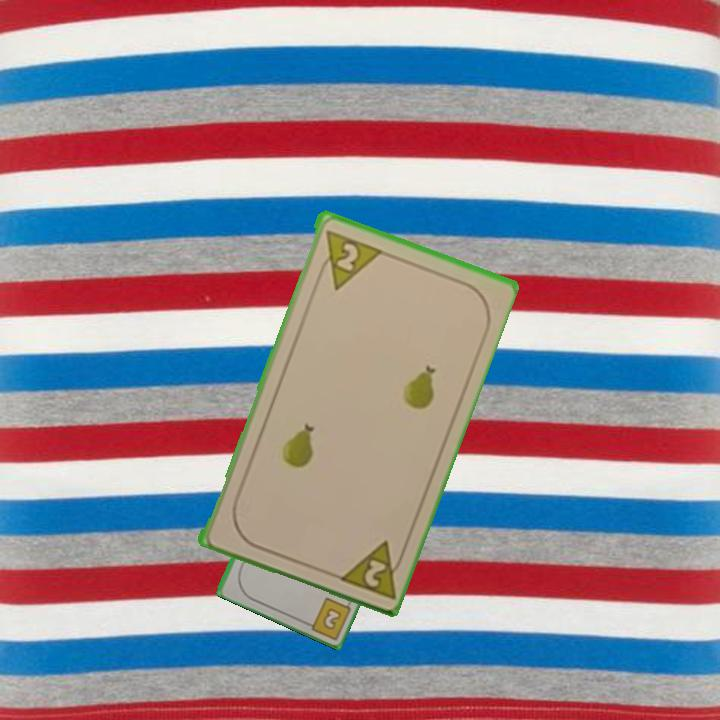2b: (299, 593, 354, 640)
2p: (332, 535, 409, 601), (314, 225, 382, 292)
